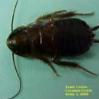cockroach: (7, 15, 96, 64)
